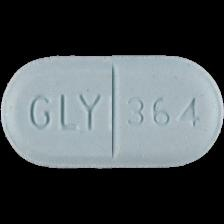43063-433: (0, 0, 224, 224)
